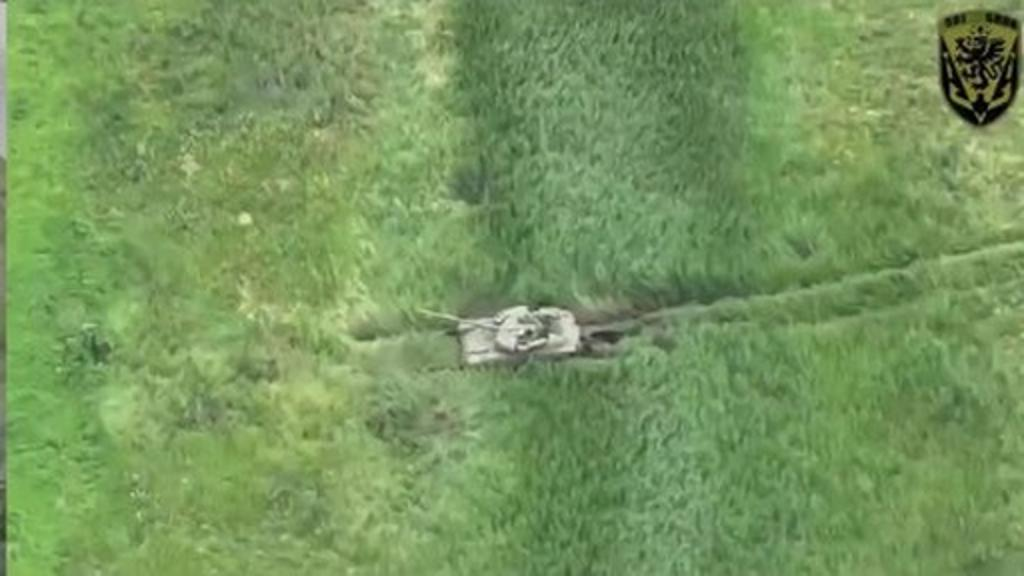TANK: (412, 294, 578, 372)
